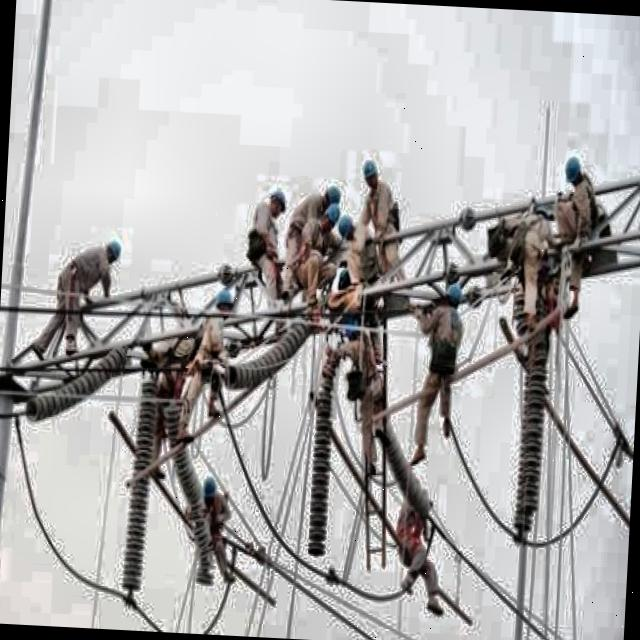helmet: (564, 150, 586, 197), (315, 201, 340, 240), (441, 278, 463, 318), (200, 472, 220, 516), (210, 286, 234, 322), (98, 235, 124, 268), (264, 189, 288, 224), (361, 155, 378, 197), (318, 179, 341, 208), (338, 215, 362, 242)
